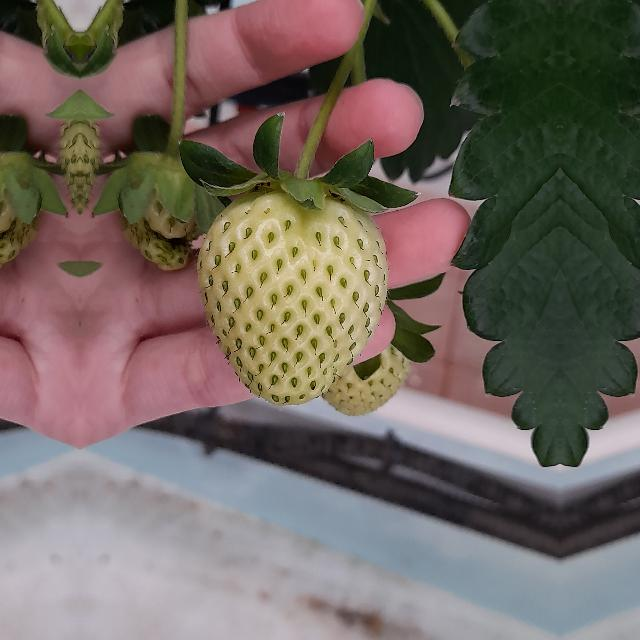Health_25: (196, 188, 388, 406)
